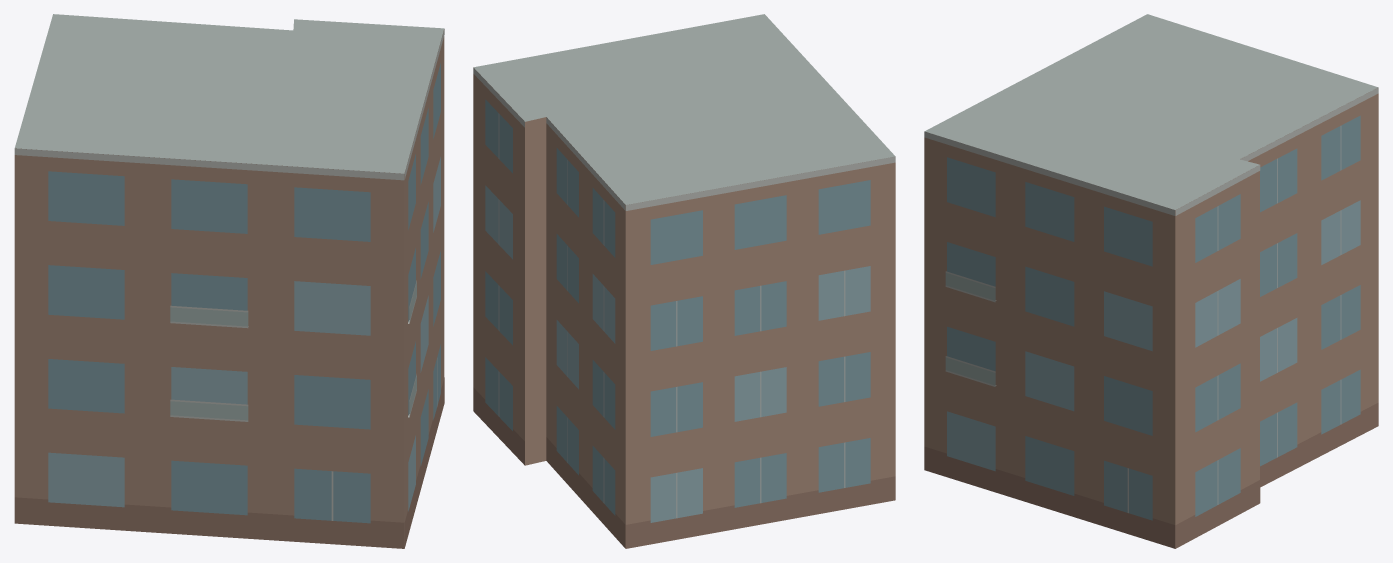
Rendered from survey-upis-32801584.glb.
3 views of the same model, side by side, from view 1: azimuth 30°, elevation 25°; view 2: azimuth 150°, elevation 25°; view 3: azimuth 270°, elevation 25° (orthographic). The views are drawn at different scales.
Visible parts, largest first — view 1: survey-upis-32801584.tmp; view 2: survey-upis-32801584.tmp; view 3: survey-upis-32801584.tmp.
Boxes of the visible parts, x1=… form: survey-upis-32801584.tmp: x1=14, y1=14, x2=444, y2=548; survey-upis-32801584.tmp: x1=473, y1=14, x2=895, y2=548; survey-upis-32801584.tmp: x1=924, y1=14, x2=1378, y2=548.
Size of the model in its own units: 17.02 by 13.7 by 16.65.
